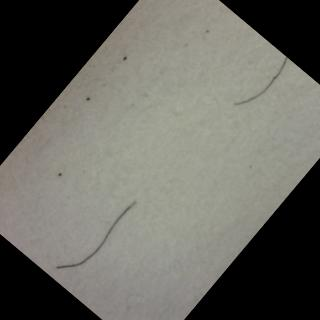Microplastic: (34, 171, 153, 298), (214, 42, 304, 136)
